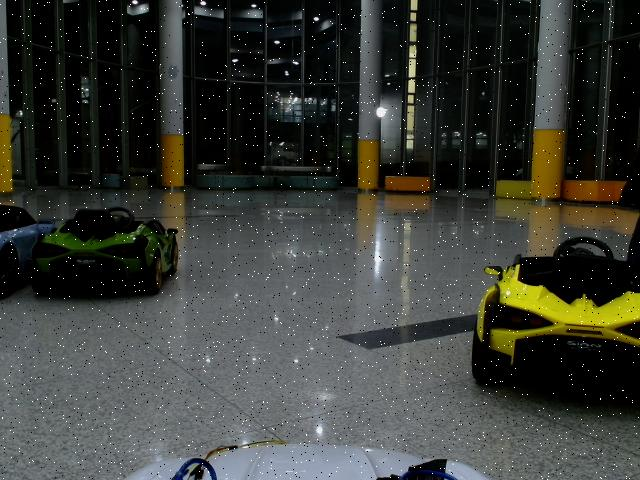car: (472, 237, 640, 389), (31, 207, 178, 296), (1, 205, 59, 299)
